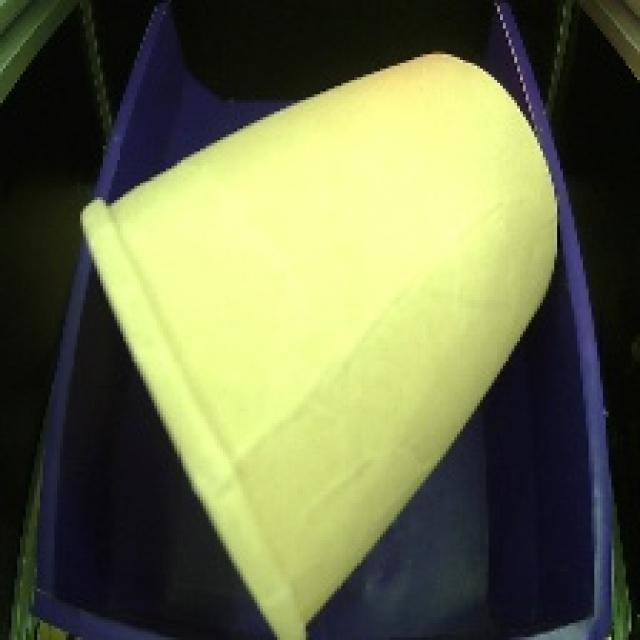cups: (63, 38, 573, 640)
